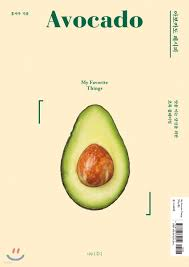avocado: (61, 104, 130, 211)
